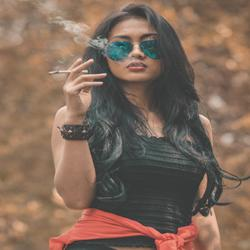smoking: (48, 57, 108, 112)
